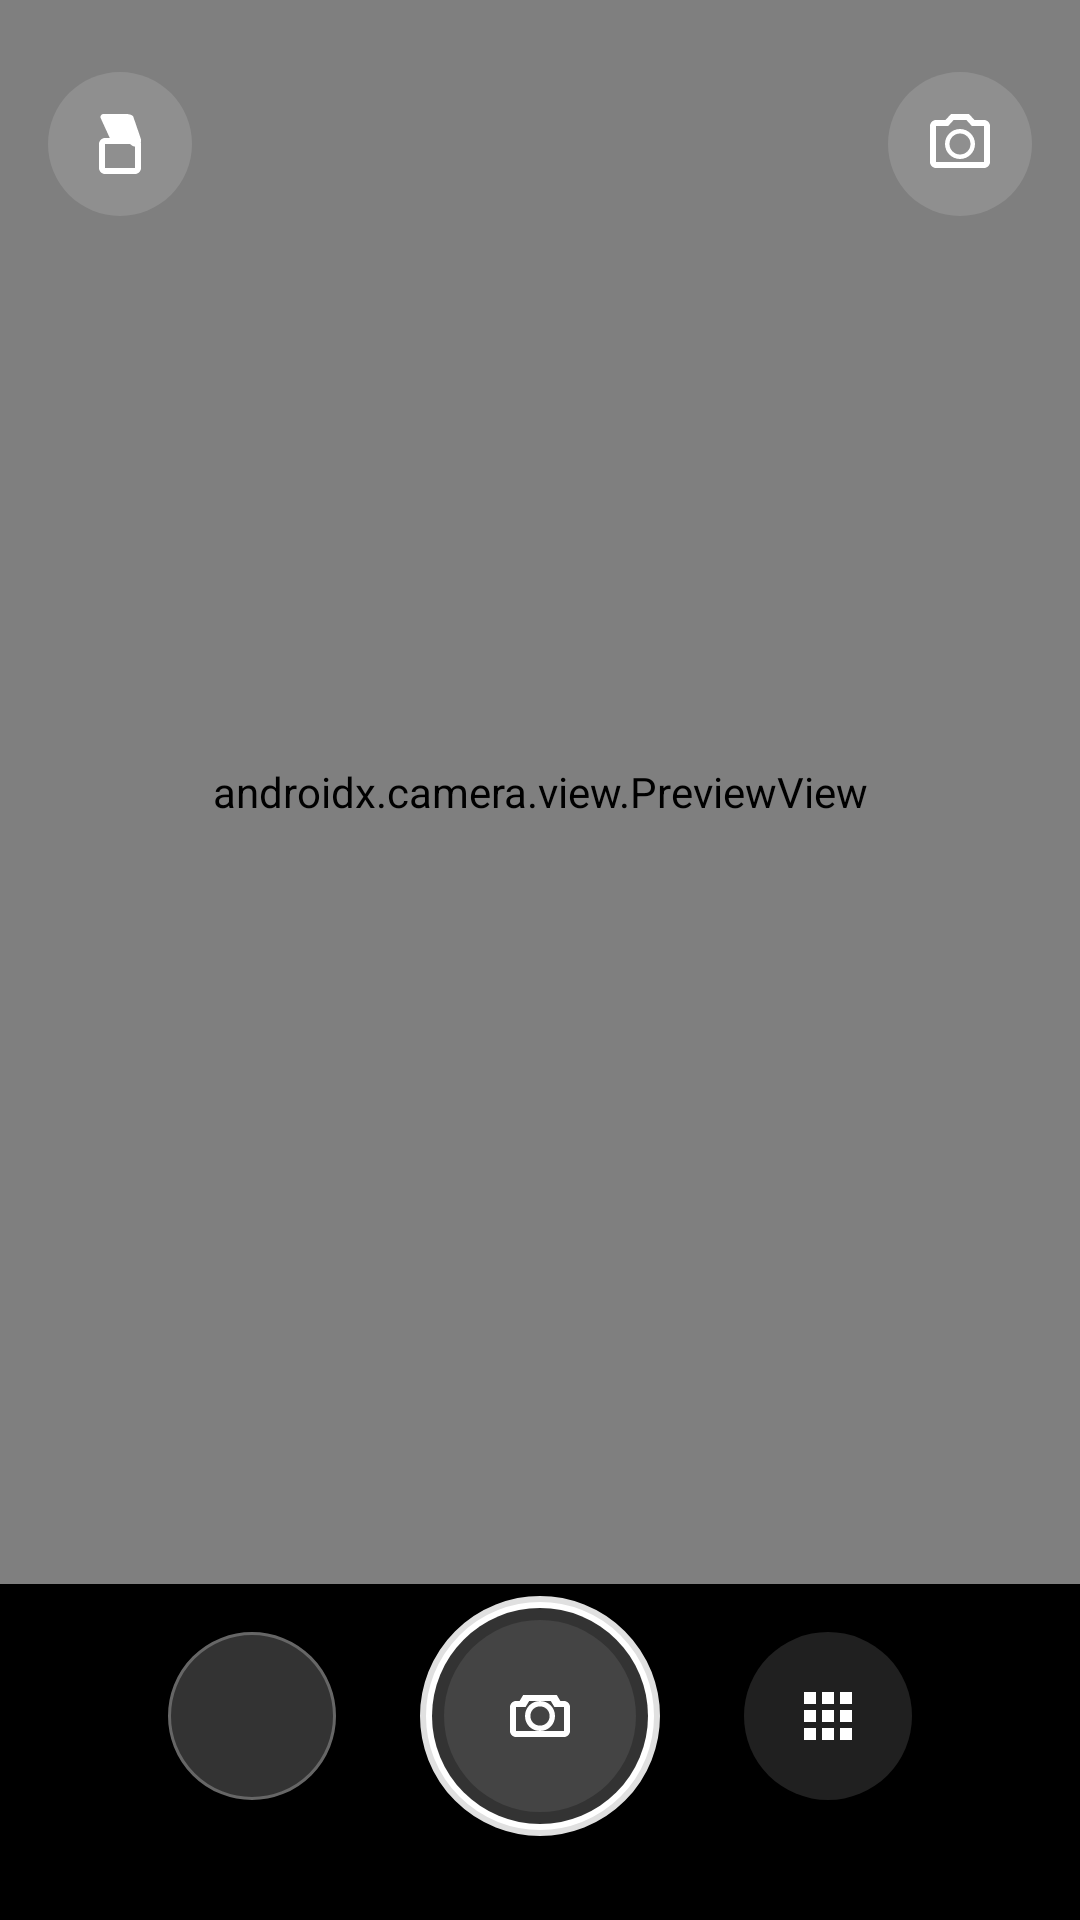

Screen size 1080 x 1920. Icon name, then its box in pixels as (left=x1, top=y1, right=x2, bottom=y2):
拍照: (left=420, top=1596, right=660, bottom=1836)
模式: (left=744, top=1632, right=912, bottom=1800)
